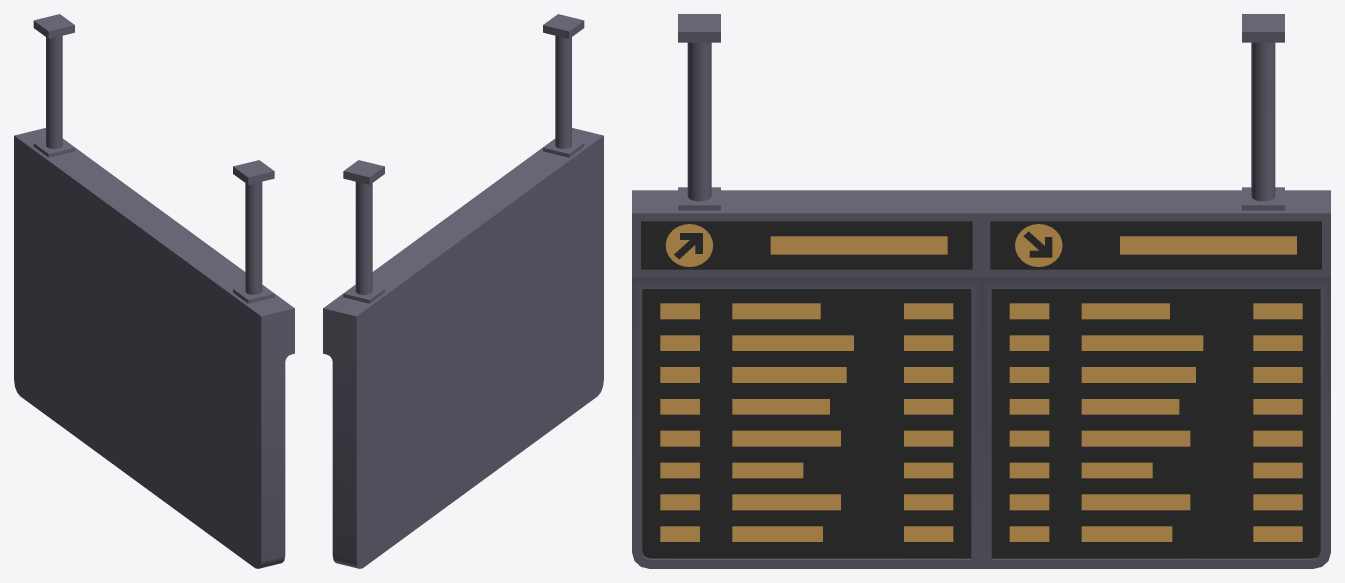
Rendered from 16_DepartureSign_AIRPORT_0.obj.
3 renders of one model, left to right at view 1: azimuth 30°, elevation 25°; view 2: azimuth 150°, elevation 25°; view 3: azimuth 270°, elevation 25°, orthographic. The views are drawn at different scales.
Visible parts, largest first — view 1: 16.DepartureSign_AIRPORT_0; view 2: 16.DepartureSign_AIRPORT_0; view 3: 16.DepartureSign_AIRPORT_0.
Part boxes in pixels (x1=…): 16.DepartureSign_AIRPORT_0: x1=14, y1=14, x2=294, y2=568; 16.DepartureSign_AIRPORT_0: x1=323, y1=14, x2=603, y2=568; 16.DepartureSign_AIRPORT_0: x1=632, y1=14, x2=1330, y2=568.
Size of the model in its own units: 0.1504 by 1.64 by 1.92.
1 material, 1 textured.
